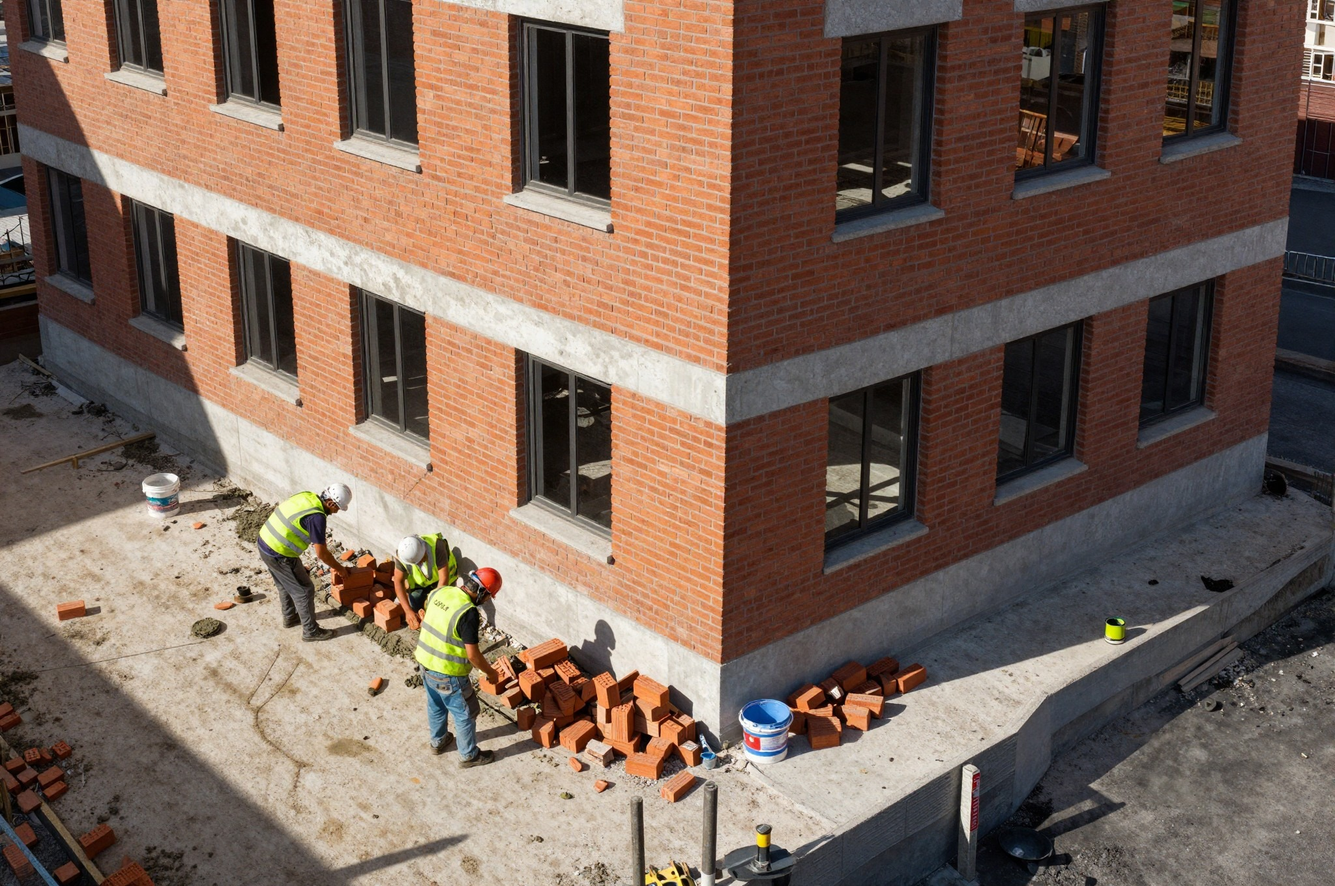helmet: (470, 560, 503, 603), (321, 473, 358, 507), (392, 532, 426, 568)
vests: (398, 571, 496, 701), (257, 489, 324, 564), (409, 530, 461, 585)
